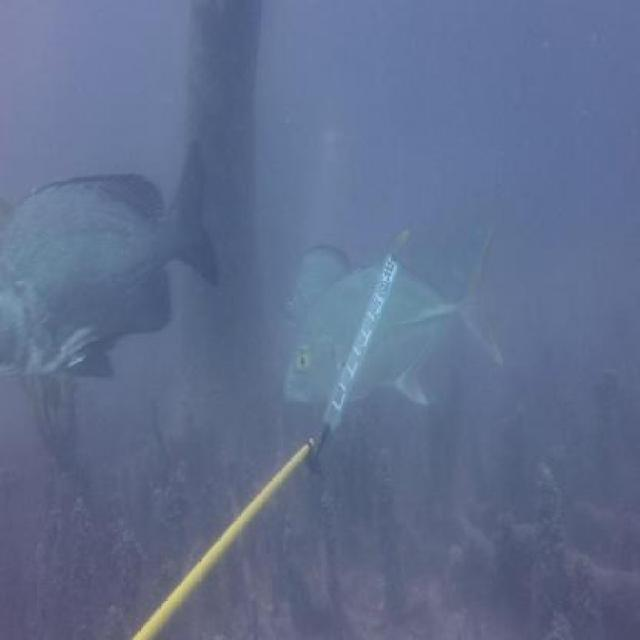Caranx: (284, 221, 508, 419)
acanthopagrus_palmaris: (2, 138, 223, 387), (284, 245, 351, 326)
